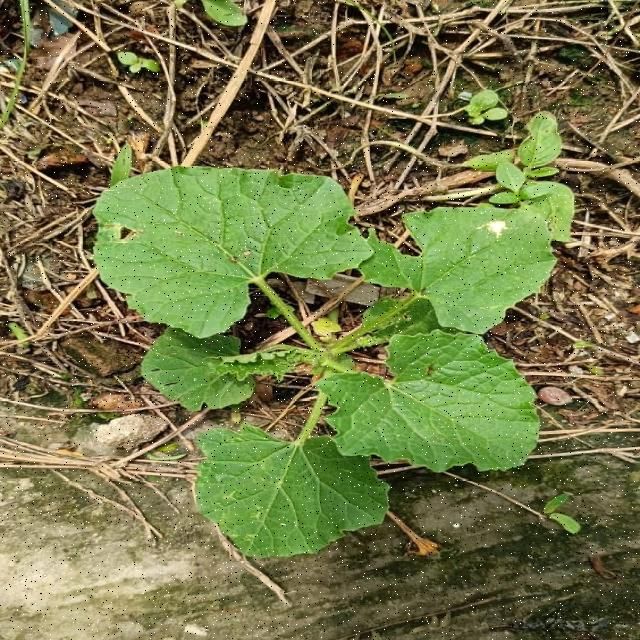plant: (95, 114, 574, 557)
